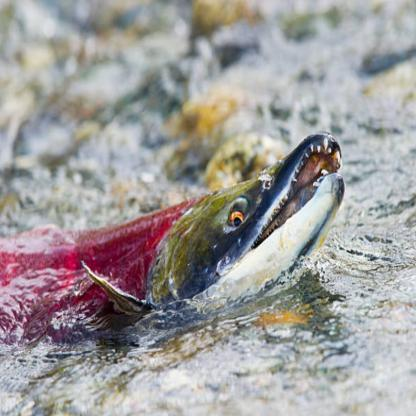sockeye: (0, 133, 339, 338)
